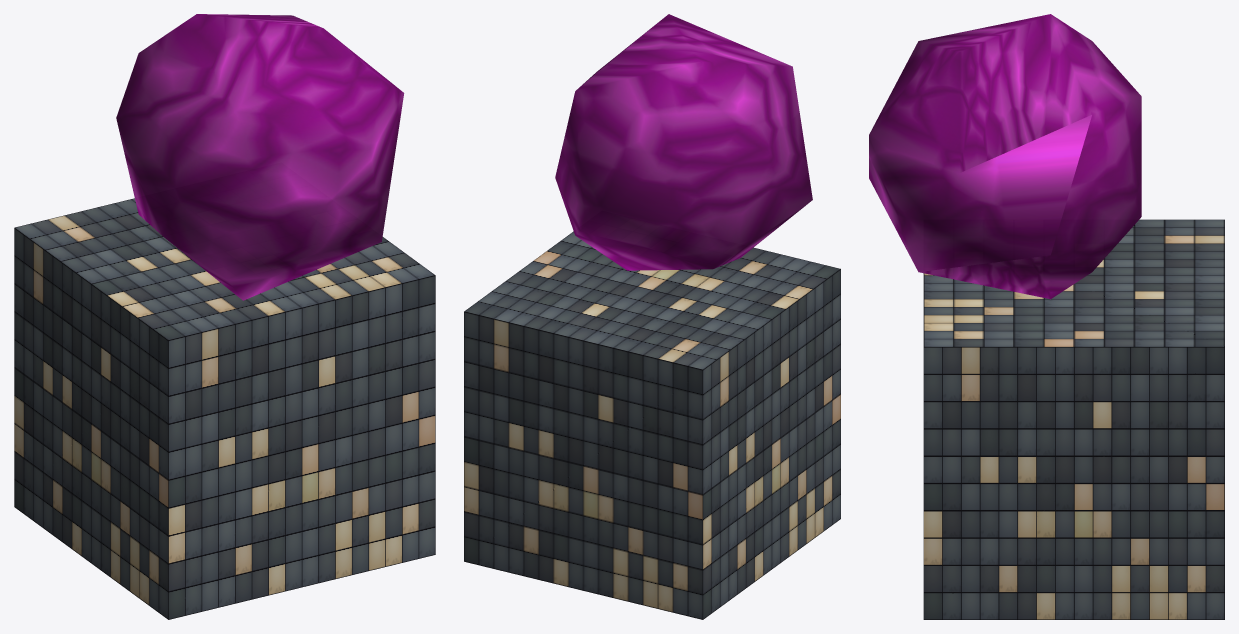
File: abstract-model-2.glb
The picture shows the model from 3 angles, left to right: view 1: azimuth 30°, elevation 25°; view 2: azimuth 150°, elevation 25°; view 3: azimuth 270°, elevation 25°; orthographic projection. The views are drawn at different scales.
Parts seen in each view (by area): view 1: Box, Tetrahedron; view 2: Box, Tetrahedron; view 3: Box, Tetrahedron.
Boxes of the visible parts, box(x1,y1,x2,y2) form: Box: box(14, 198, 435, 619); Tetrahedron: box(116, 14, 404, 300); Box: box(464, 231, 840, 619); Tetrahedron: box(555, 14, 812, 270); Box: box(923, 219, 1224, 619); Tetrahedron: box(869, 14, 1141, 299).
Bounding box in the file's own units: 0.2 × 0.3833 × 0.2362.
2 materials, 2 textured.
